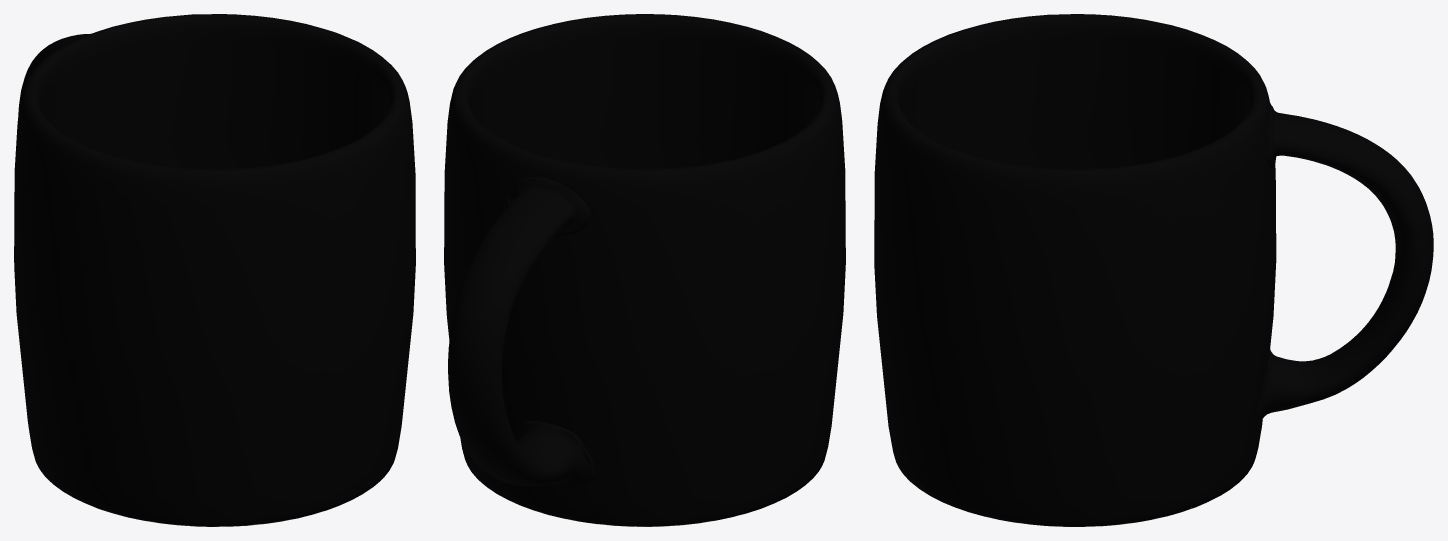
File: black_ceramic_mug.glb
3 views of the same model, side by side, from view 1: azimuth 30°, elevation 25°; view 2: azimuth 150°, elevation 25°; view 3: azimuth 270°, elevation 25° (orthographic).
Parts seen in each view (by area): view 1: mug; view 2: mug; view 3: mug.
Boxes of the visible parts, x1,y1,x2,y2 form: mug: (14, 14, 415, 526); mug: (444, 14, 845, 526); mug: (874, 14, 1433, 526).
Size of the model in its own units: 0.2156 by 0.2147 by 0.3.
Materials: 1 (1 with a texture image).
